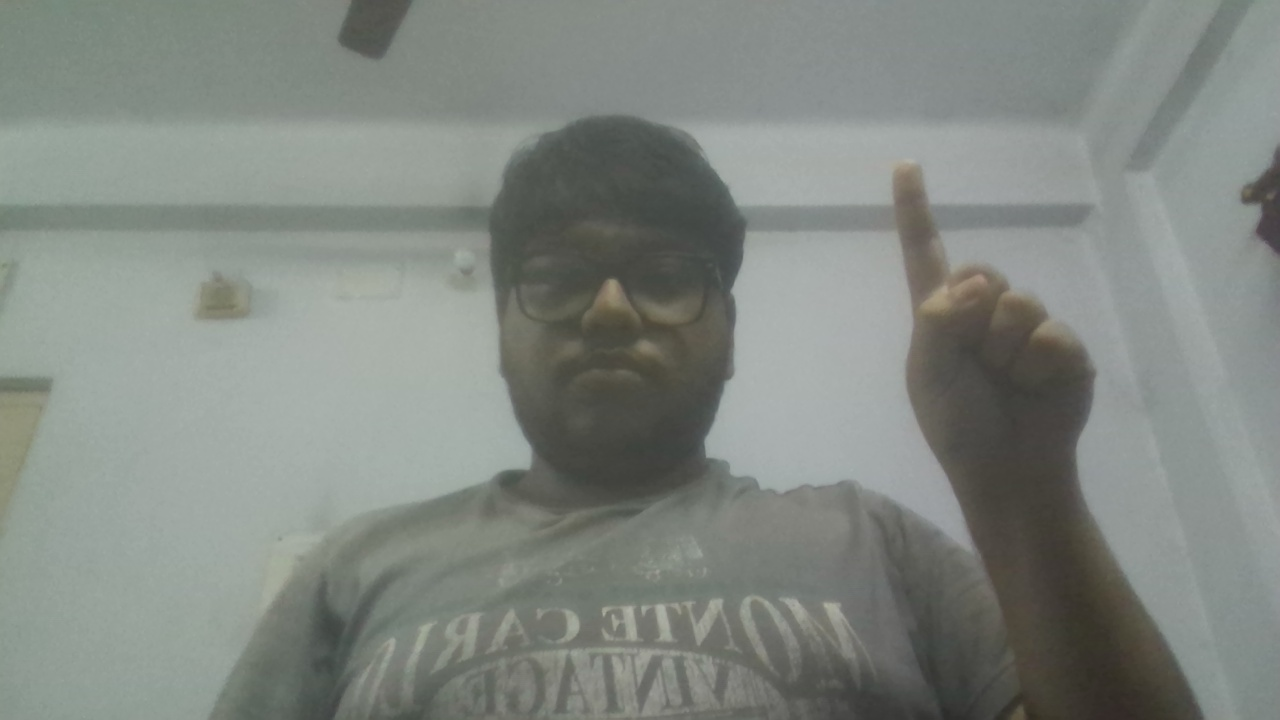Gesture1: (883, 147, 1112, 504)
